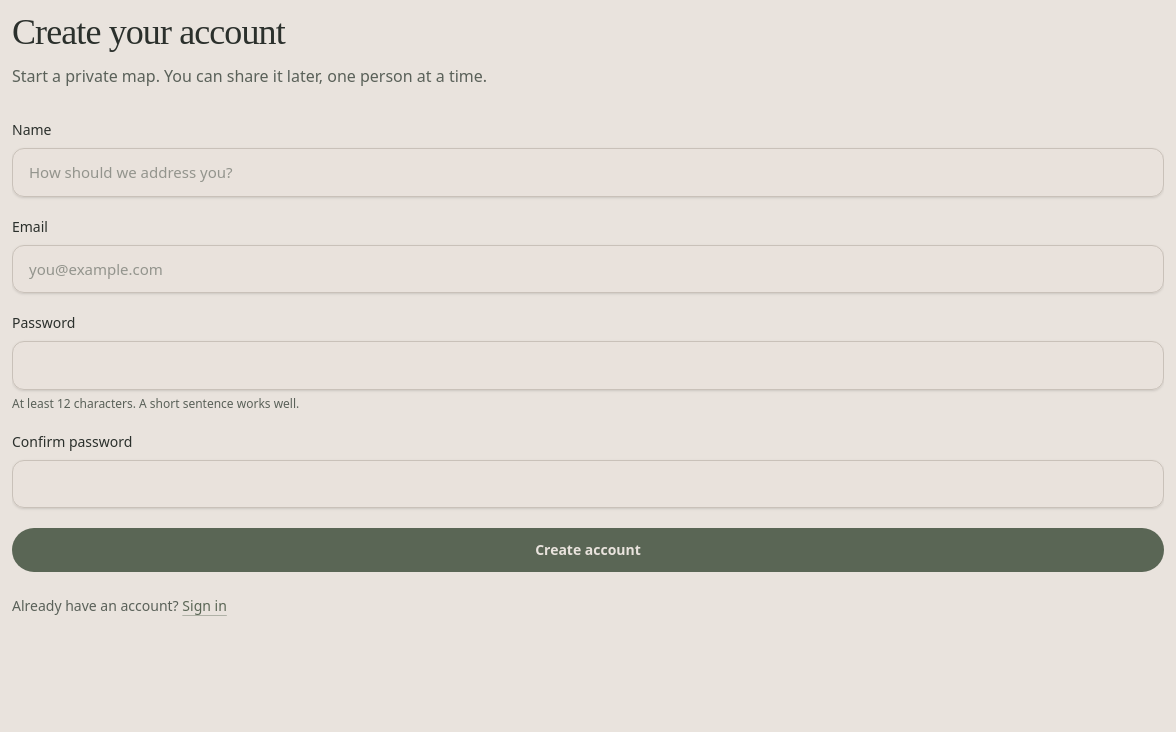
Test case: SignUpForm › returns to the form from the code step to use a different address
This screenshot has width=1176, height=732.
Type "Ada" into the field labelled "Name".
click(588, 172); type("Ada")  # box [12,148,1164,196]
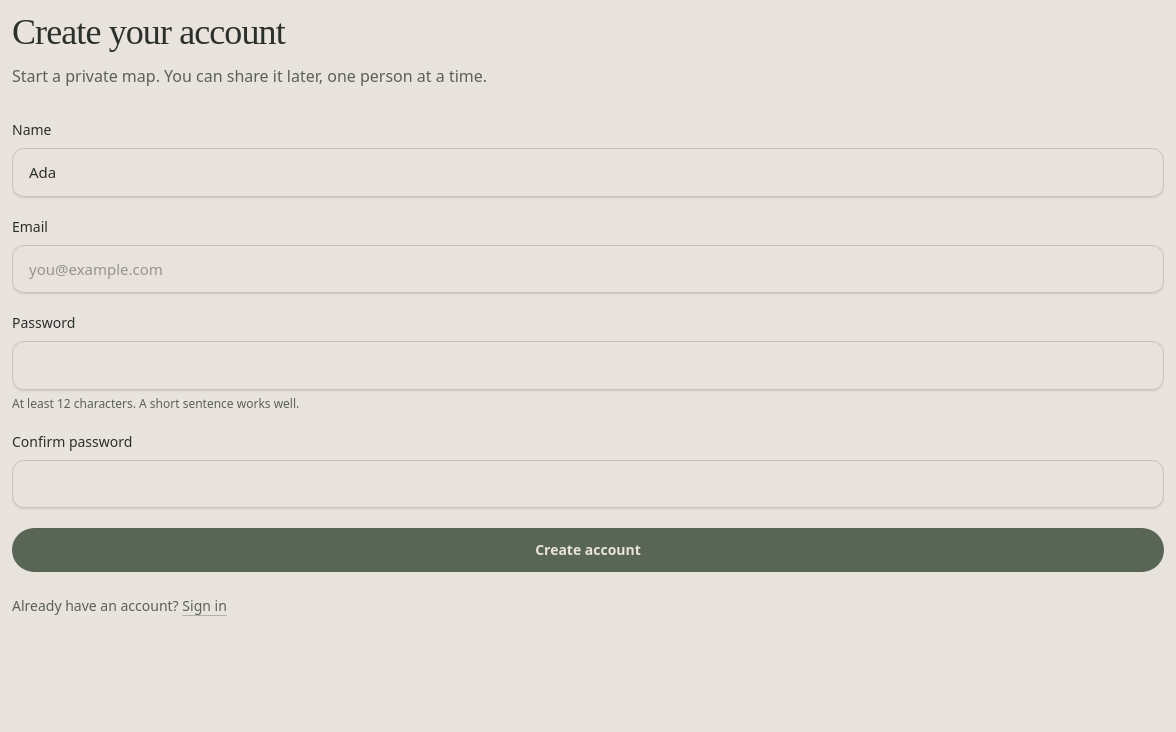
Type "ada@example.com" into the field labelled "Email".
click(588, 269); type("ada@example.com")  # box [12,244,1164,293]
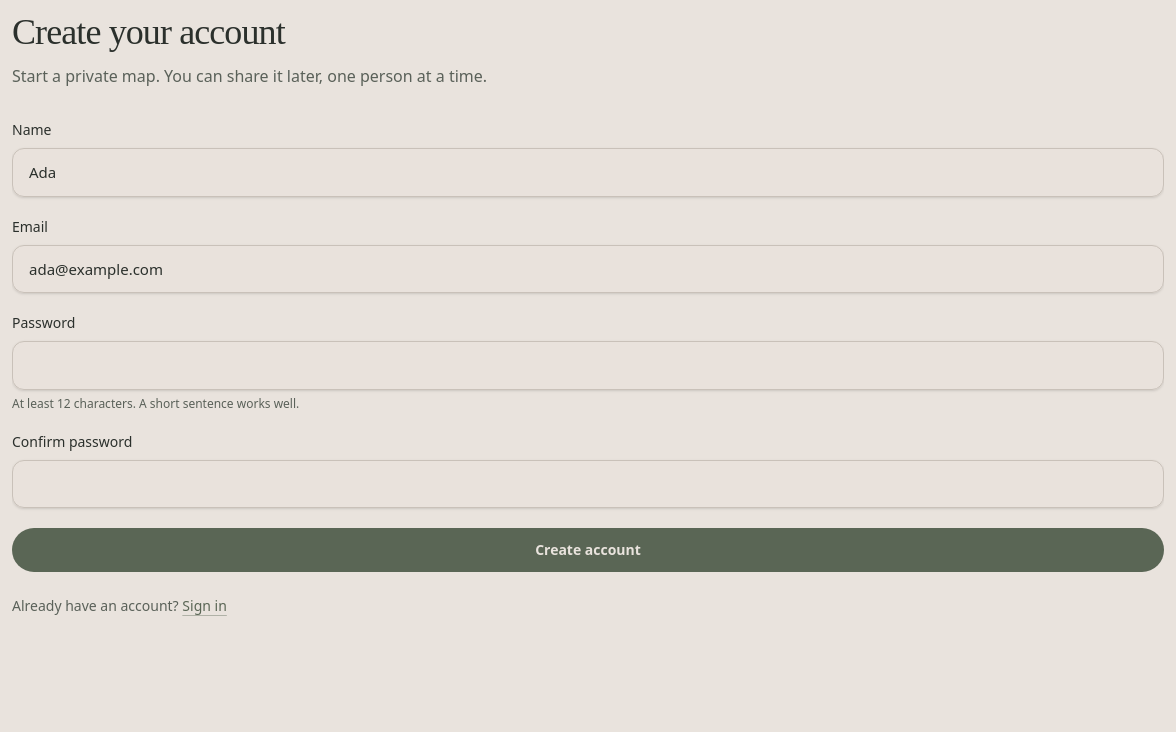
Type "a long passphrase here" into the password field labelled "Password".
click(588, 365); type("a long passphrase here")  # box [12,341,1164,390]
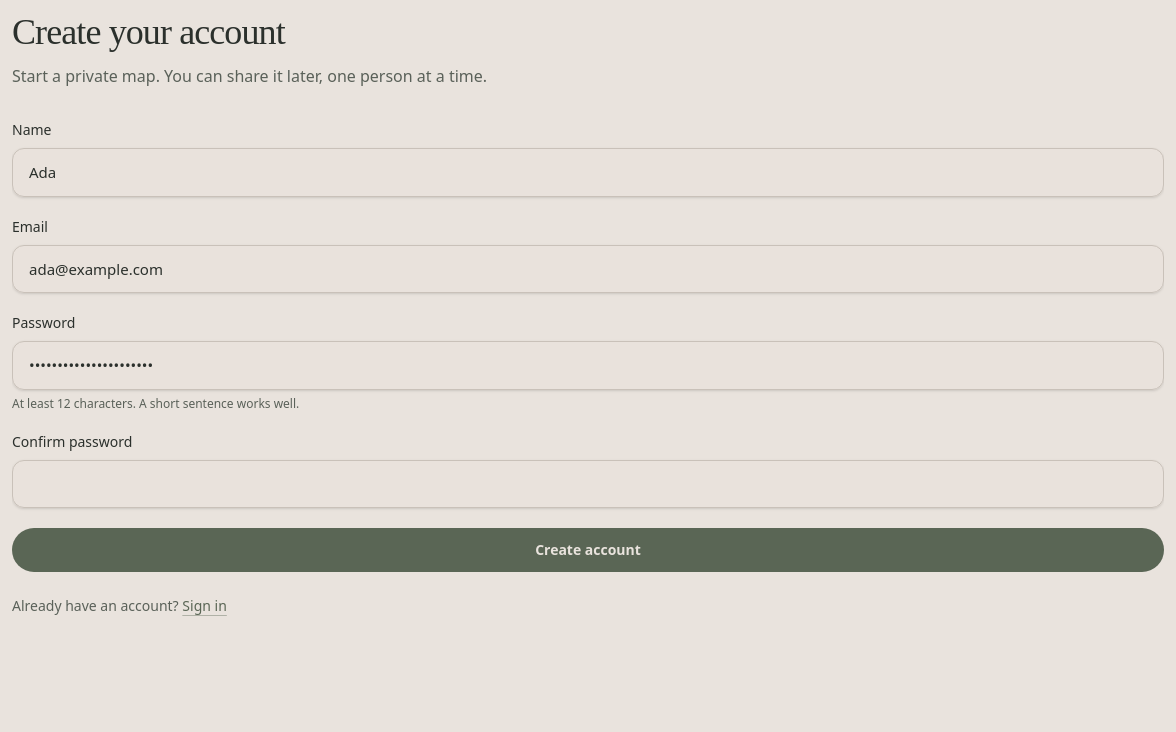
Type "a long passphrase here" into the password field labelled "Confirm password".
click(588, 484); type("a long passphrase here")  # box [12,460,1164,508]
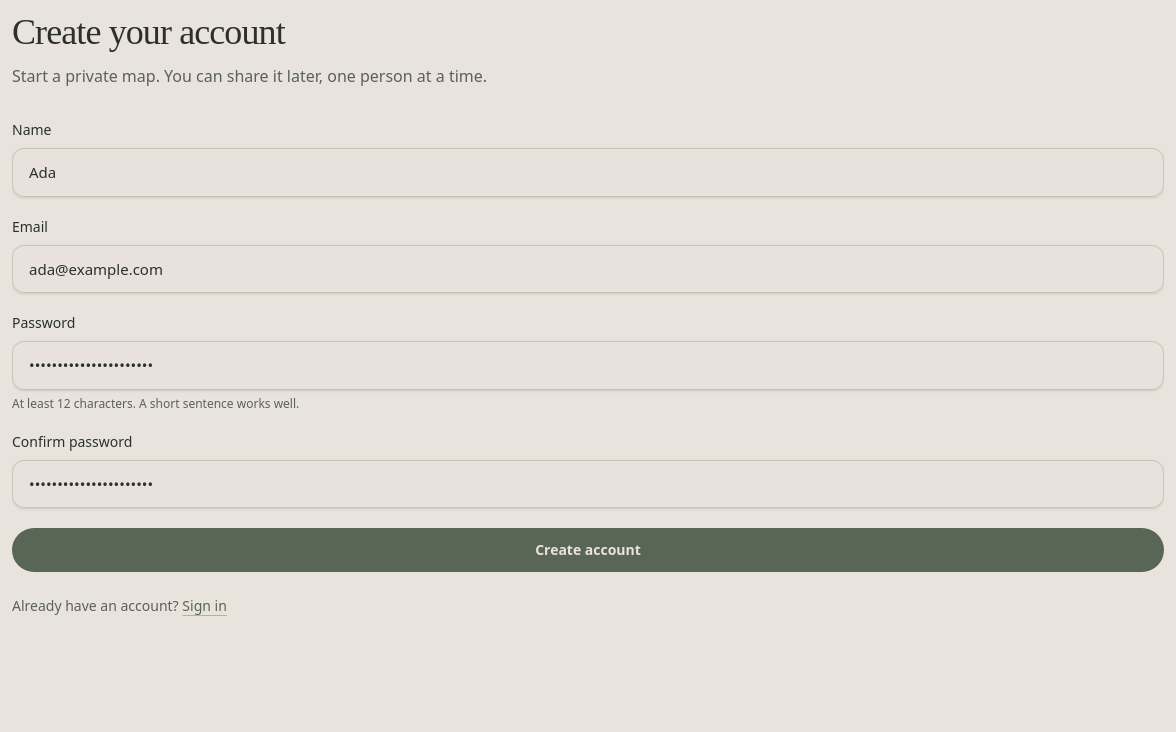
Click the button "Create account".
click(588, 550)  # box [12,528,1164,572]
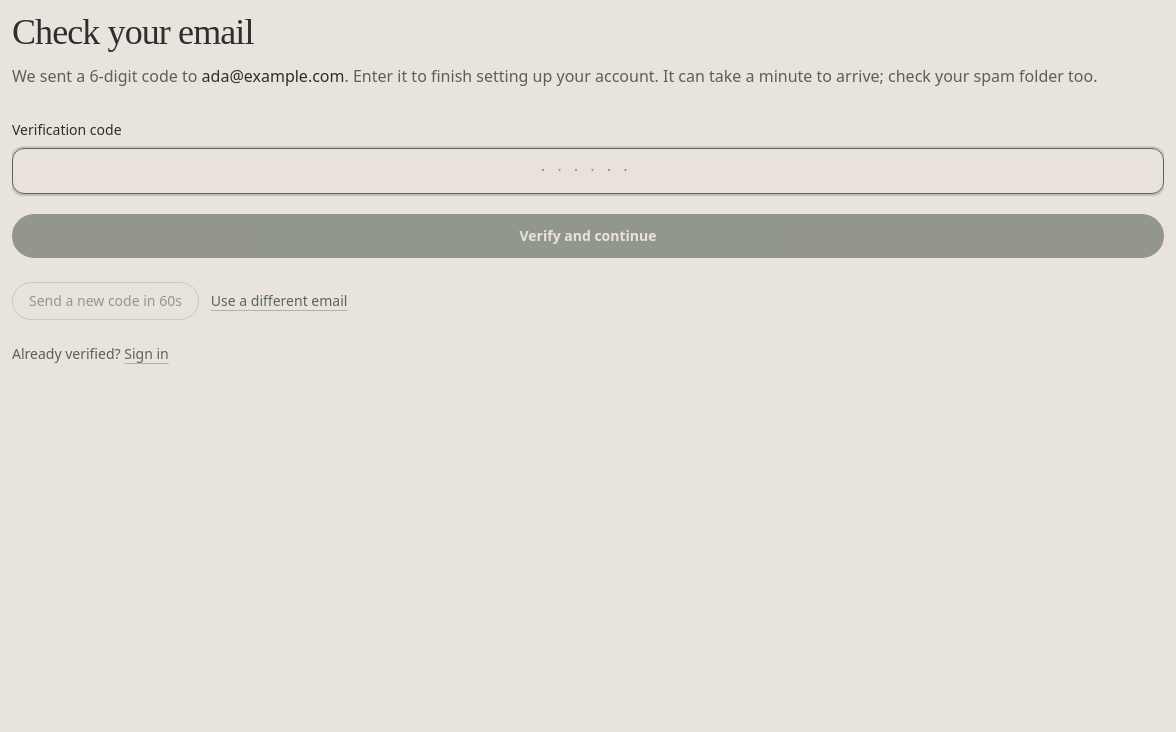
Now the heading "Check your email" is shown, box [12,12,254,52]
Click the button "Use a different email".
click(279, 301)  # box [211,291,347,311]
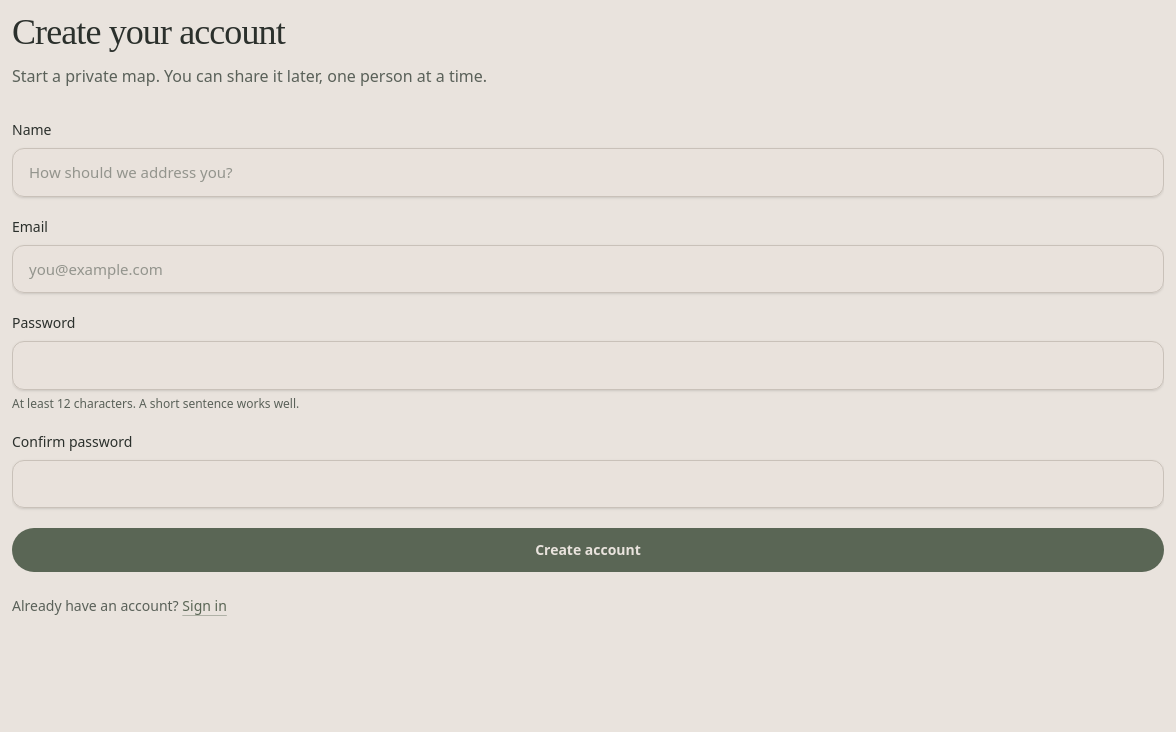
Now the heading "Create your account" is shown, box [12,12,285,52]
